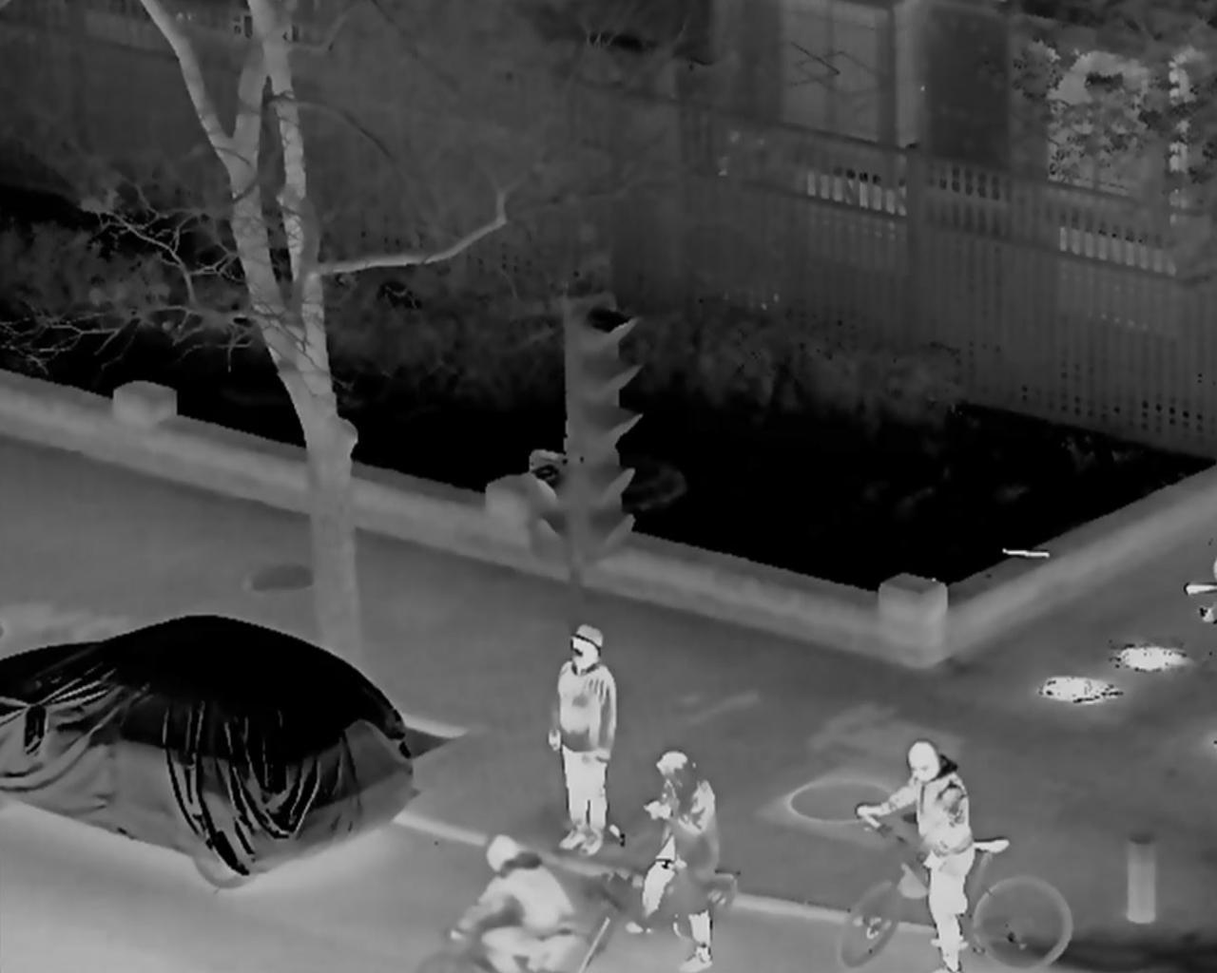person: (872, 741, 974, 972), (632, 752, 722, 973), (540, 624, 621, 854), (450, 842, 574, 973)
